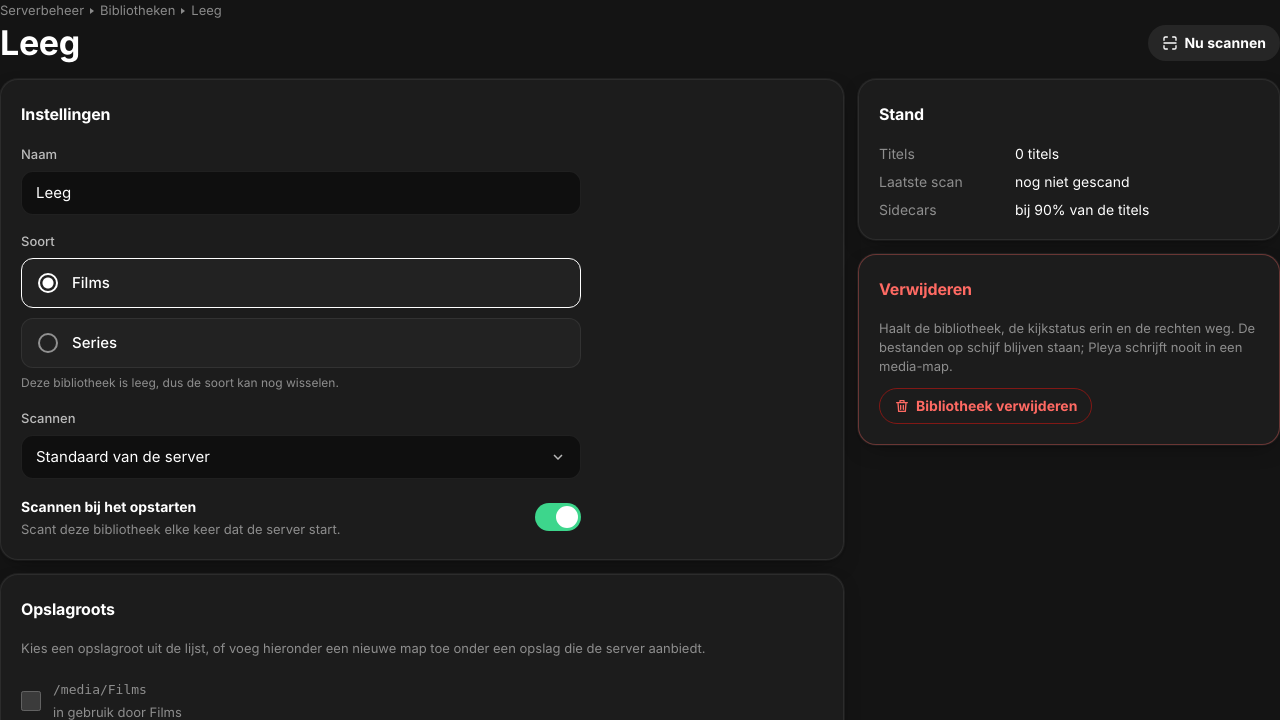
scherm 22, bewerken › legt bij library.not_empty uit dat de soort vastligt
This screenshot has width=1280, height=720.
Click the radio button labelled "Series".
click(95, 343)  # box [21,318,581,368]
(page scrolled)
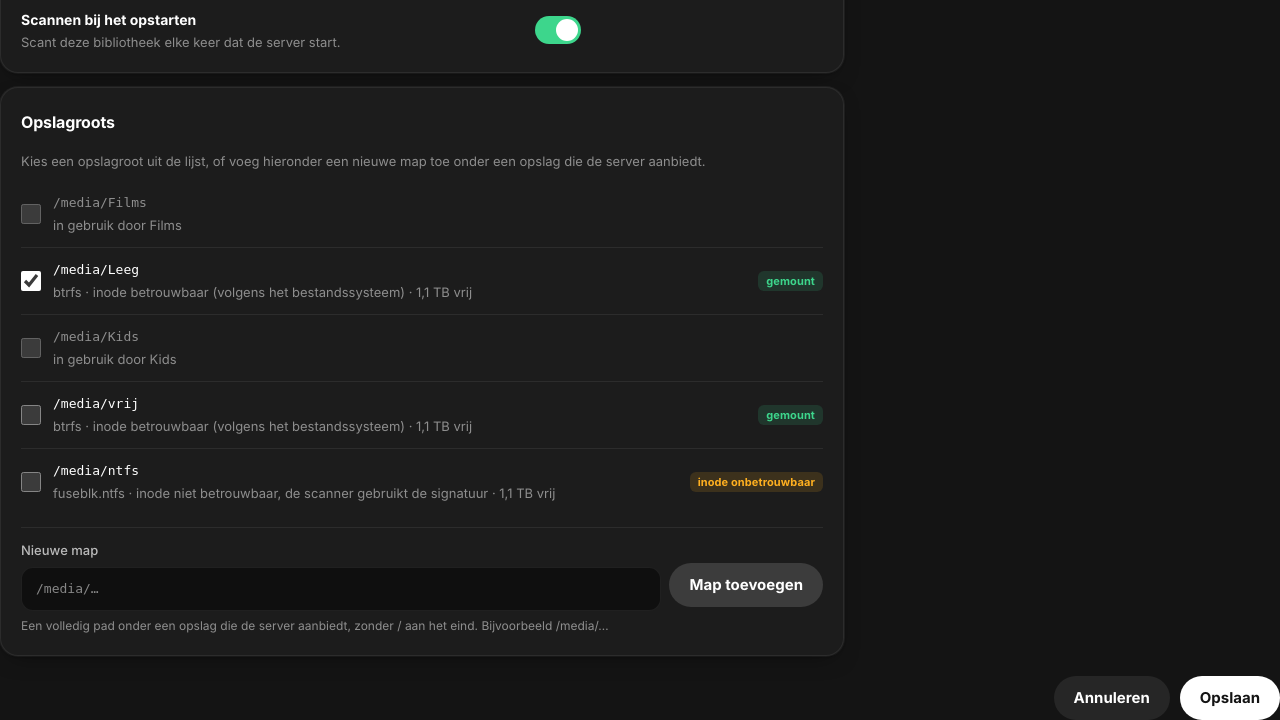
Click the button "Opslaan".
click(1230, 698)  # box [1180,676,1279,719]
(page scrolled)
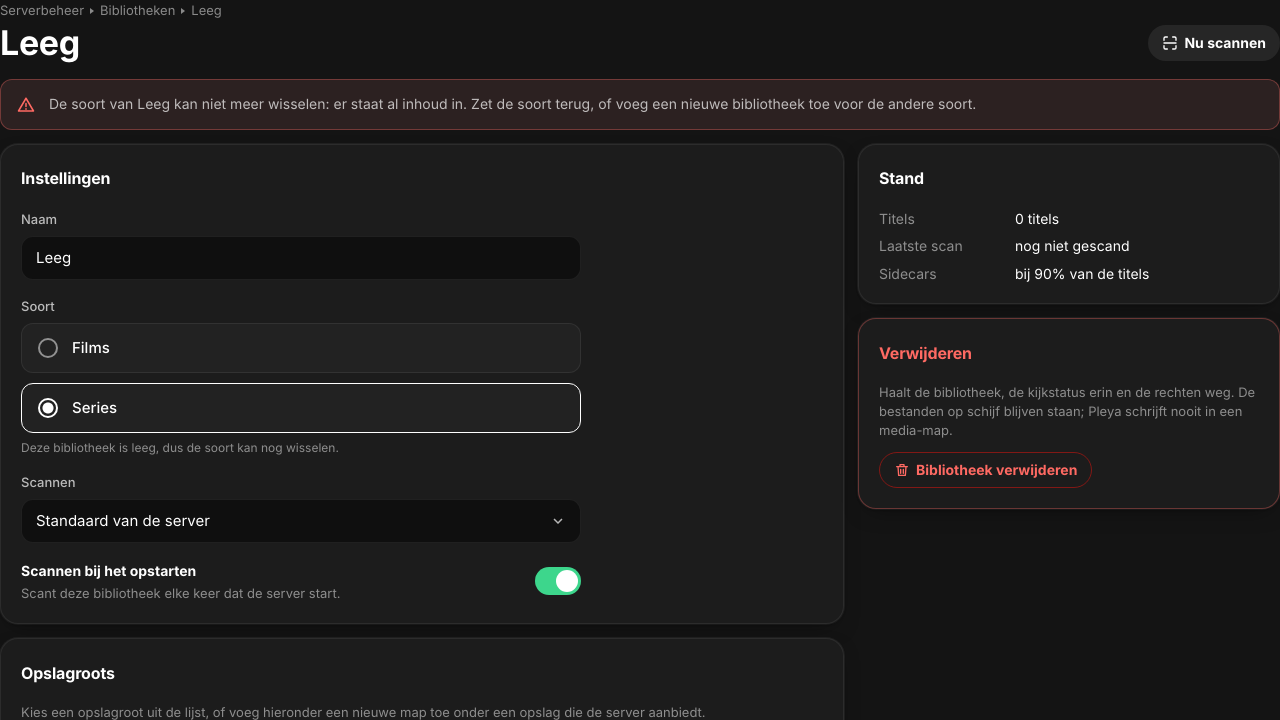
Check: the message shows "De soort van Leeg kan niet meer wisselen", box [49,95,976,112]
